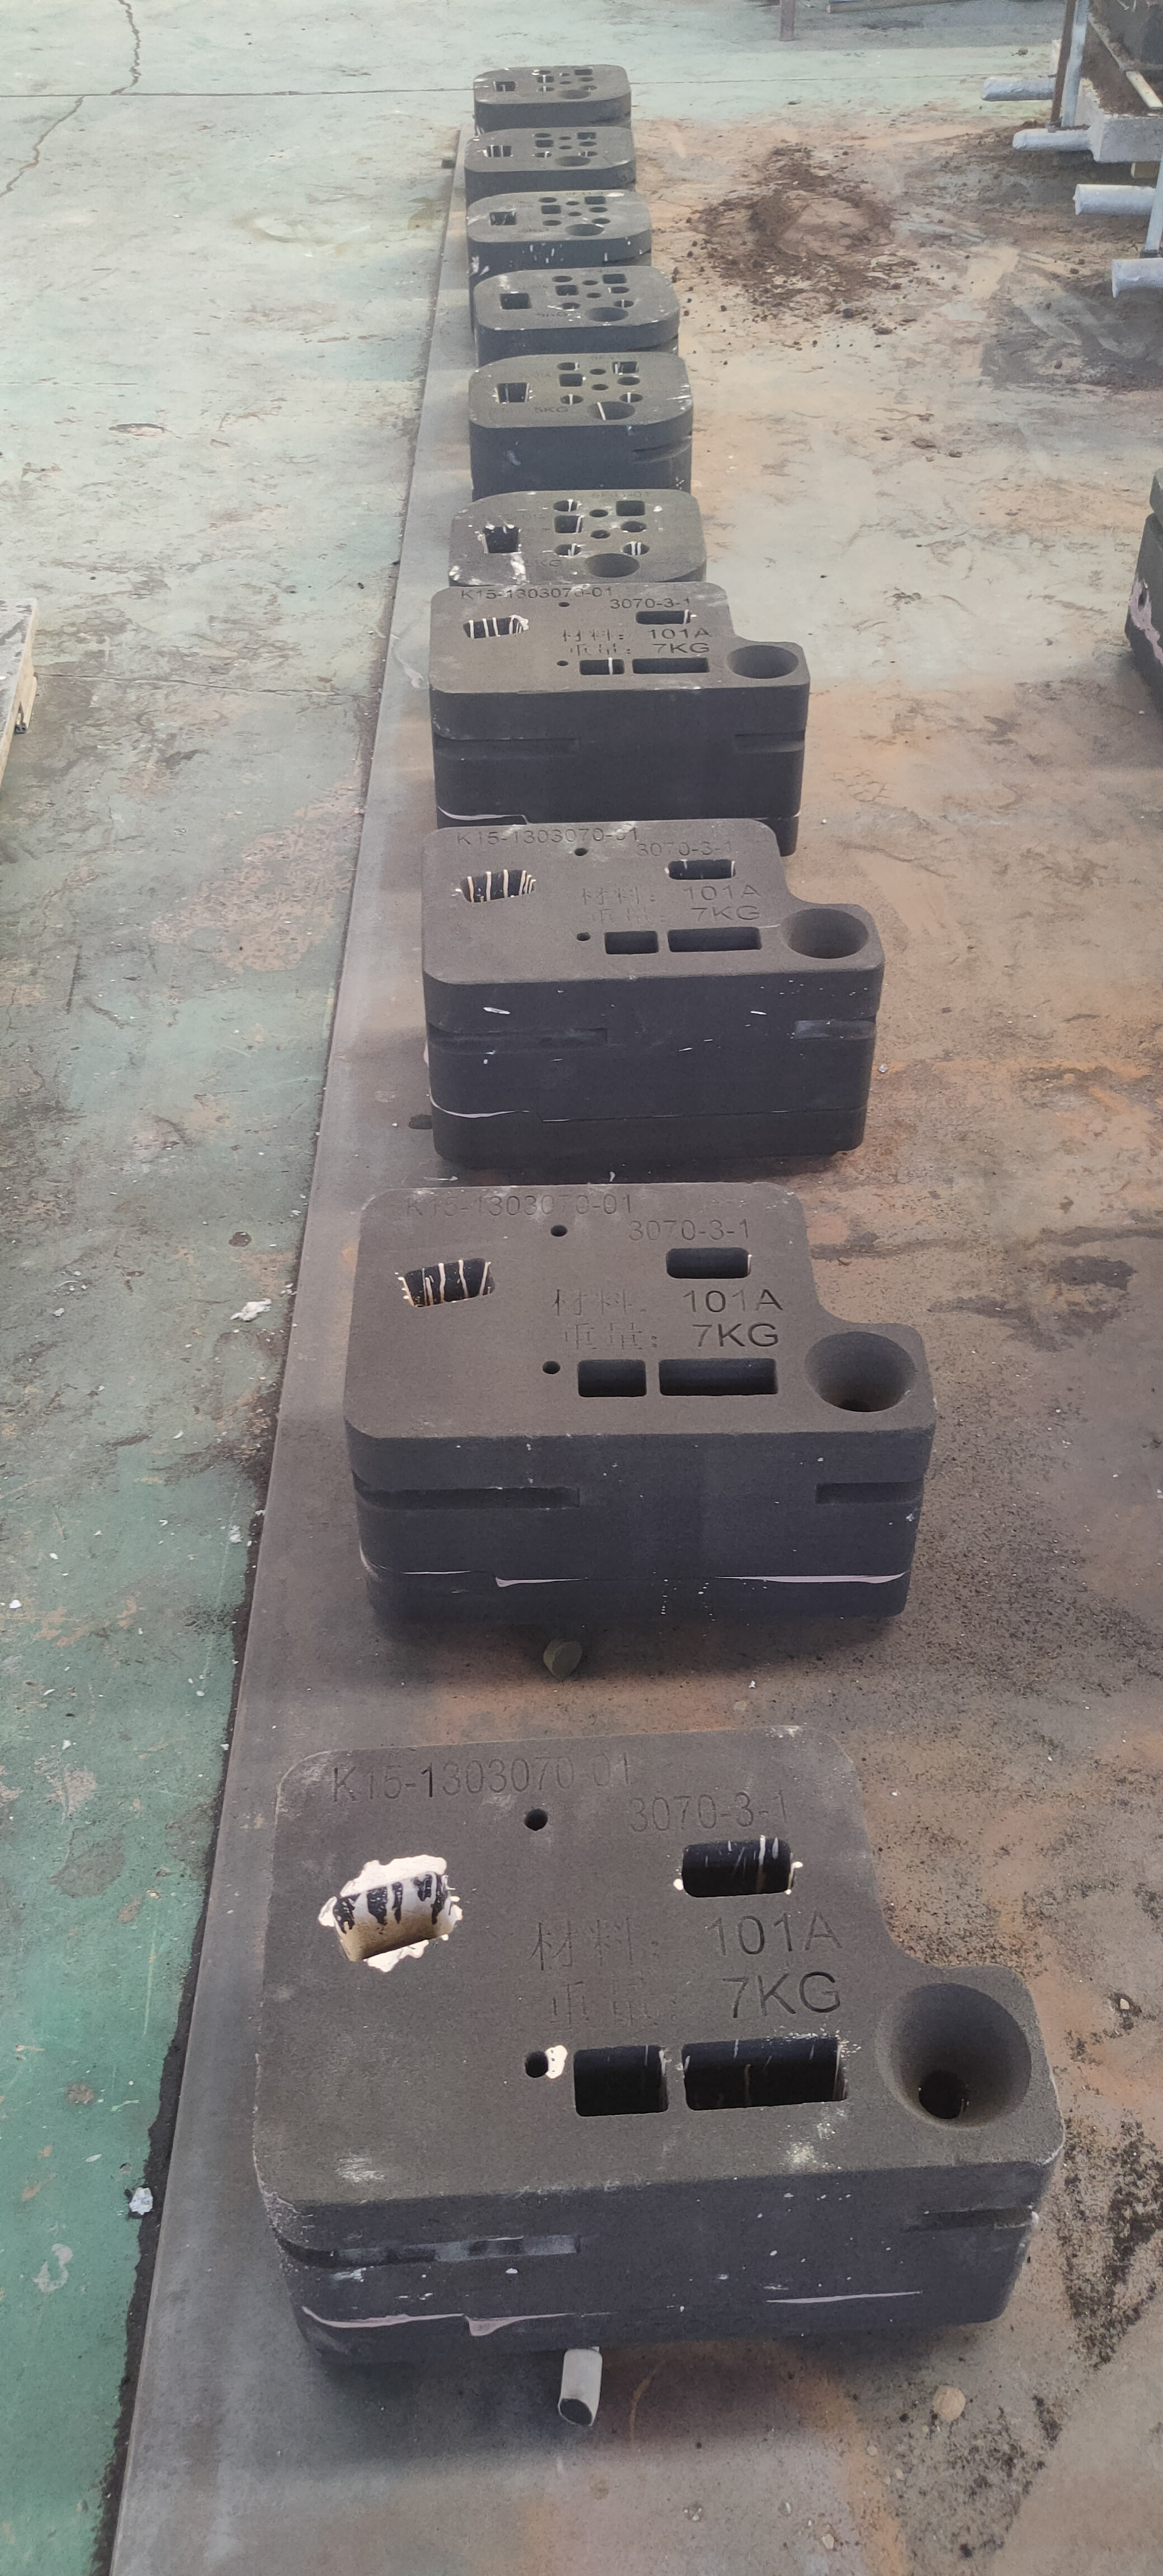pouring hole: (874, 1981, 1032, 2129), (803, 1332, 915, 1413), (779, 909, 869, 959), (724, 646, 798, 678), (583, 554, 639, 578), (585, 401, 636, 421), (583, 307, 629, 322), (563, 223, 604, 237), (554, 156, 591, 166), (559, 89, 591, 99)
